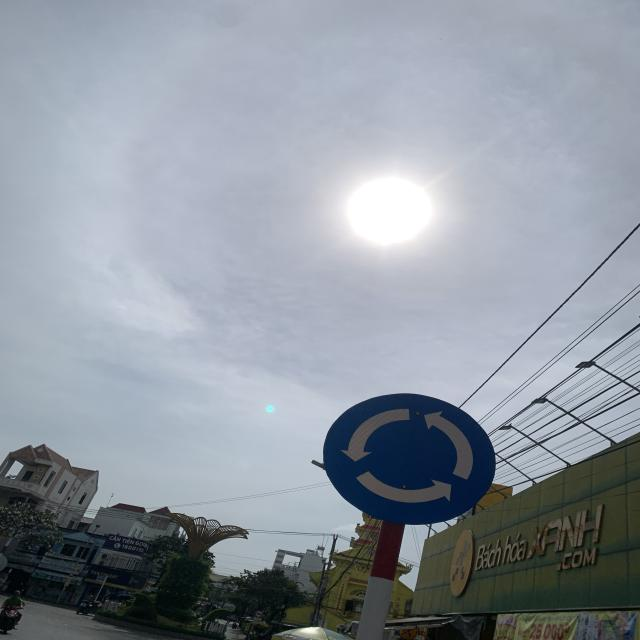Xe_Bus: (322, 392, 499, 527)
